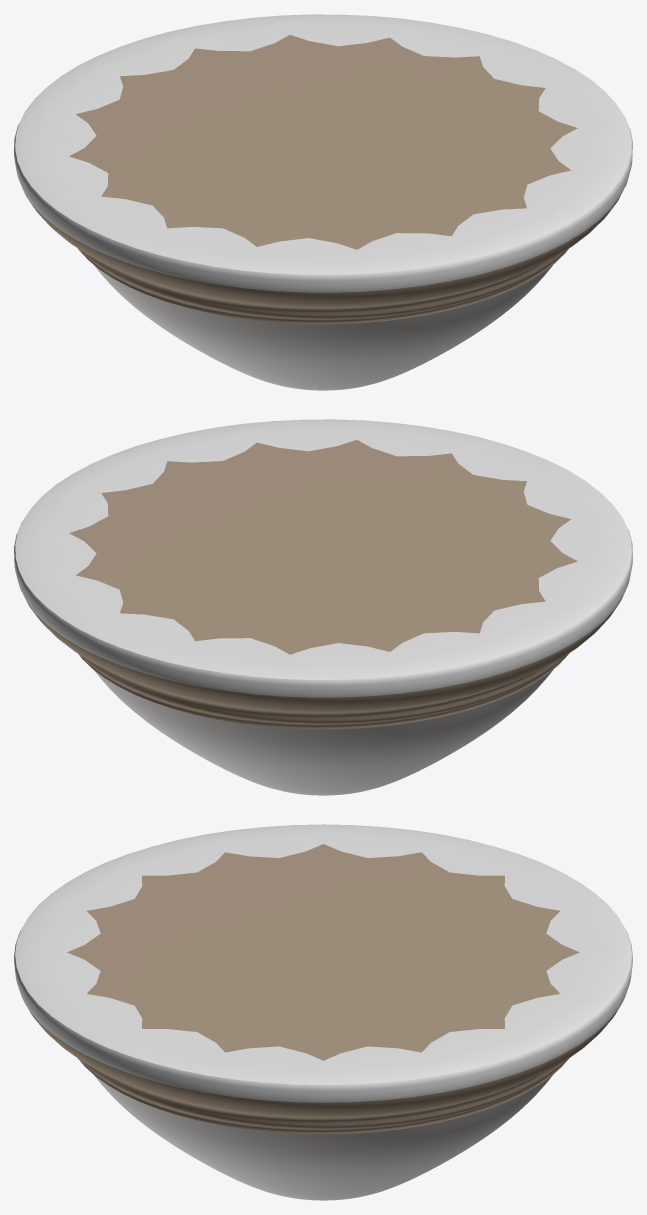
Rendered from Ceiling Lamp.fbx.
The picture shows the model from 3 angles, top to bottom: view 1: azimuth 30°, elevation 25°; view 2: azimuth 150°, elevation 25°; view 3: azimuth 270°, elevation 25°; orthographic projection.
Visible parts, largest first — view 1: LampModel, Light; view 2: LampModel, Light; view 3: LampModel, Light.
Part boxes in pixels (box(x1,y1,x2,y2)): LampModel: box(14, 14, 632, 324); Light: box(93, 264, 552, 390); LampModel: box(14, 419, 632, 729); Light: box(94, 669, 553, 795); LampModel: box(14, 824, 632, 1134); Light: box(93, 1074, 553, 1200).
Size of the model in its own units: 195 by 195 by 78.91.
